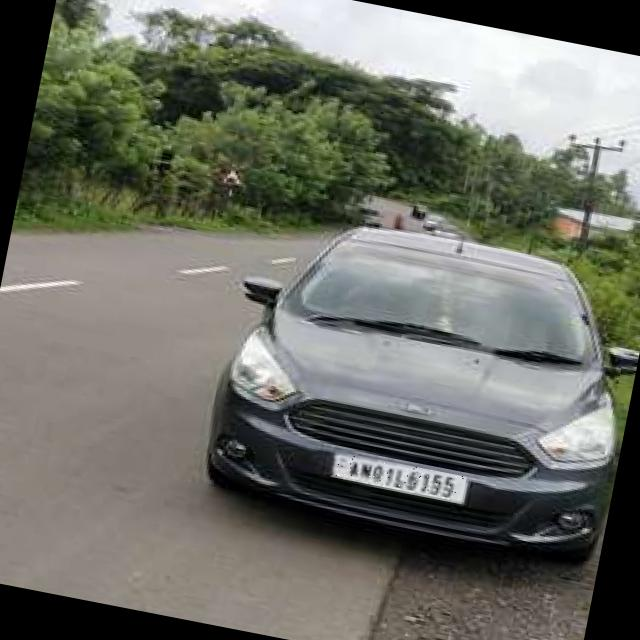Plate: (327, 452, 468, 502)
